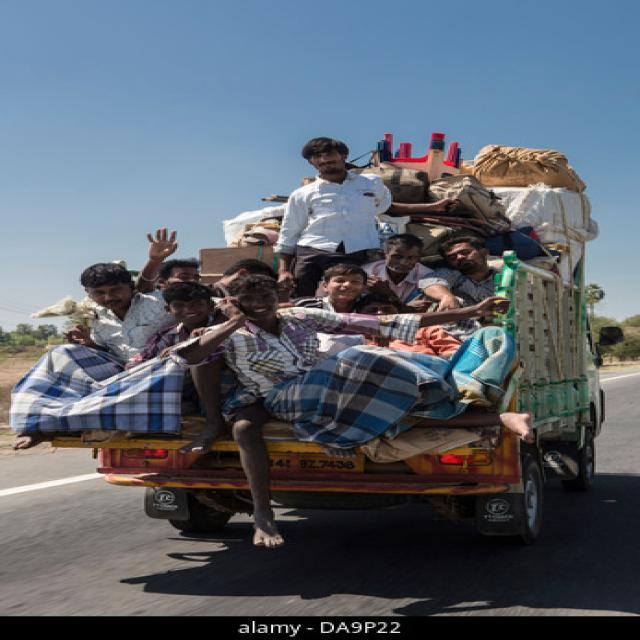normal_truck: (265, 218, 605, 541), (54, 418, 251, 531)
overloaded_truck: (10, 134, 597, 547)
